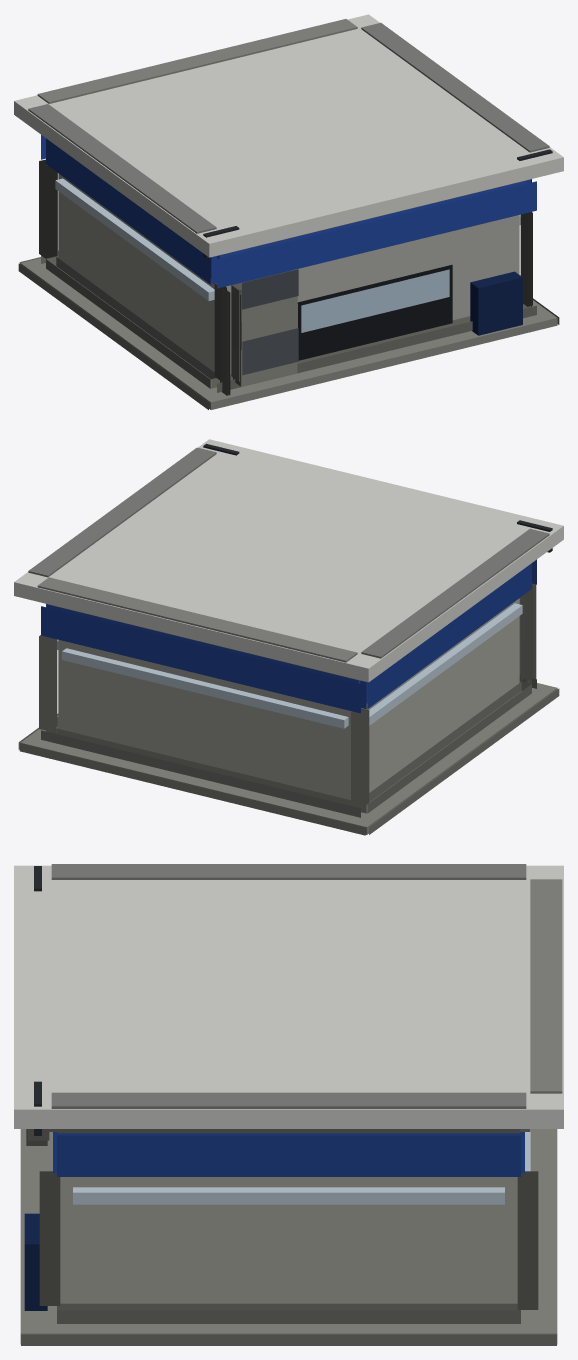
Rendered from TurnstileTerminatorSil.fbx.
The picture shows the model from 3 angles, top to bottom: view 1: azimuth 30°, elevation 25°; view 2: azimuth 150°, elevation 25°; view 3: azimuth 270°, elevation 25°; orthographic projection. The views are drawn at different scales.
Parts seen in each view (by area): view 1: SG_S_All; view 2: SG_S_All; view 3: SG_S_All.
Boxes of the visible parts, bbox=[...] form: SG_S_All: bbox=[14, 14, 563, 409]; SG_S_All: bbox=[14, 439, 563, 835]; SG_S_All: bbox=[14, 864, 563, 1345].
Size of the model in its own units: 43.04 by 19.8 by 41.04.
